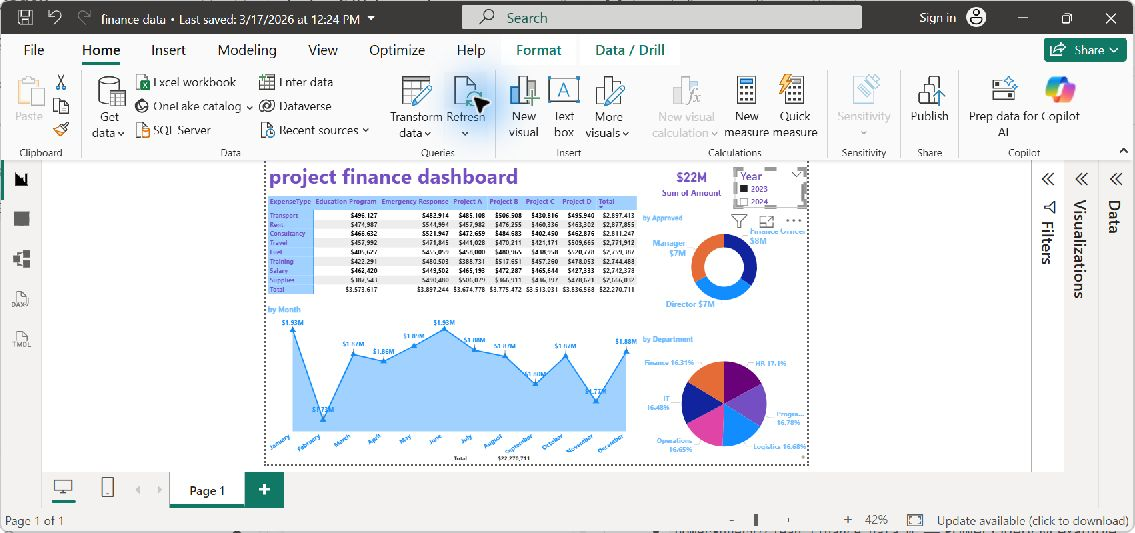

What the dashboard file says about the page in this screenshot:
{"tool":"powerbi","page":{"name":"Page 1","canvas":[1280,720],"ordinal":0},"visuals":[{"type":"areaChart","title":"by Month","fields":{"Category":["finance_data_10000_rows.Date.Variation.Date Hierarchy.Month"],"Y":["Sum(finance_data_10000_rows.Amount)"]},"box":[0,343.5,885.7,376.9],"z":0},{"type":"pieChart","title":" by Department","fields":{"Category":["finance_data_10000_rows.Department"],"Y":["Sum(finance_data_10000_rows.Amount)"]},"box":[885.7,414.1,393.7,306.4],"z":1000},{"type":"donutChart","title":" by Approved","fields":{"Category":["finance_data_10000_rows.Approved By"],"Y":["Sum(finance_data_10000_rows.Amount)"]},"box":[885.7,128.1,393.7,232.1],"z":2000},{"type":"card","fields":{"Values":["Sum(finance_data_10000_rows.Amount)"]},"box":[967.4,0,154.1,102.1],"z":3000},{"type":"slicer","fields":{"Values":["finance_data_10000_rows.Year"]},"box":[1108.6,0,170.8,102.1],"z":4000},{"type":"pivotTable","fields":{"Rows":["finance_data_10000_rows.ExpenseType"],"Values":["Sum(finance_data_10000_rows.Amount)"]},"box":[434.5,692.6,844.9,27.9],"z":5000},{"type":"pivotTable","fields":{"Rows":["finance_data_10000_rows.ExpenseType"],"Columns":["finance_data_10000_rows.Project"],"Values":["Sum(finance_data_10000_rows.Amount)"]},"box":[0,79.8,885.7,263.7],"z":6000},{"type":"actionButton","box":[0,0,100,40],"z":7000},{"type":"textbox","box":[0,0,605.3,79.8],"z":8000}]}

Visuals, with their boxes on the page's 1280x720 design canvas (x1, y1, x2, y2). These are canvas units, not pixel positions in the 1135x533 screenshot, which may show the page scaled, cropped or inside an application window:
"by Month" areaChart: Rect(0, 344, 886, 720)
" by Department" pieChart: Rect(886, 414, 1279, 720)
" by Approved" donutChart: Rect(886, 128, 1279, 360)
card - Sum(finance_data_10000_rows.Amount): Rect(967, 0, 1122, 102)
slicer - finance_data_10000_rows.Year: Rect(1109, 0, 1279, 102)
pivotTable - finance_data_10000_rows.ExpenseType x Sum(finance_data_10000_rows.Amount): Rect(434, 693, 1279, 720)
pivotTable - finance_data_10000_rows.ExpenseType x finance_data_10000_rows.Project: Rect(0, 80, 886, 344)
actionButton: Rect(0, 0, 100, 40)
textbox: Rect(0, 0, 605, 80)
